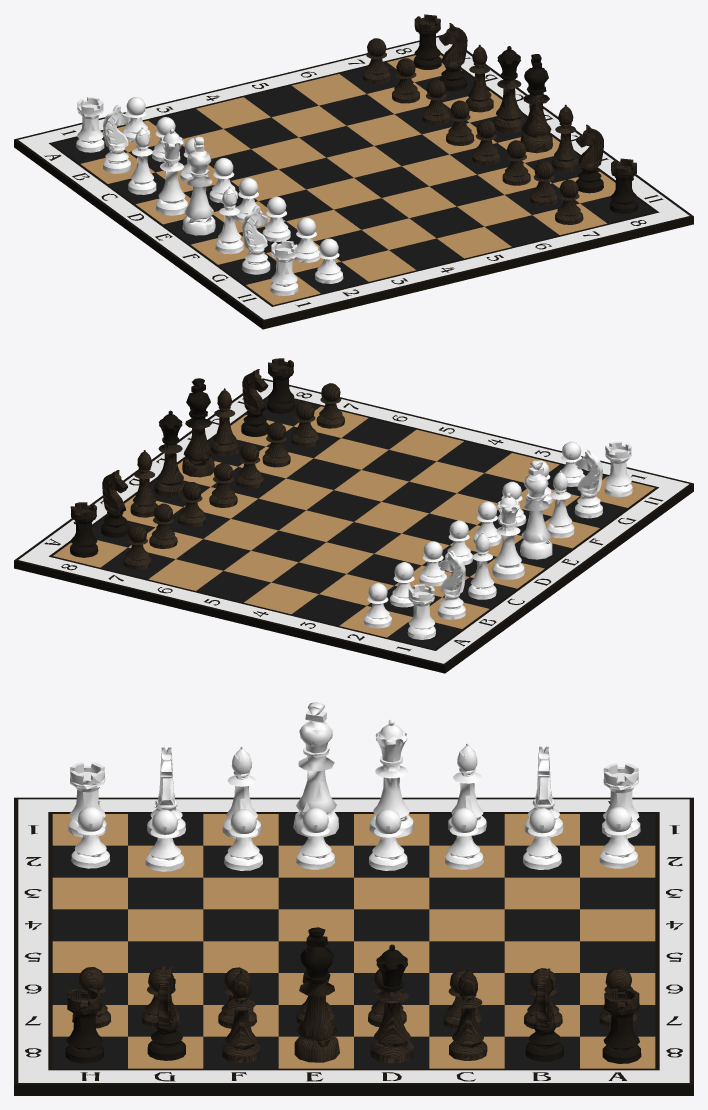
The model's file is botw-chess-002.glb.
3 renders of one model, top to bottom at view 1: azimuth 30°, elevation 25°; view 2: azimuth 150°, elevation 25°; view 3: azimuth 270°, elevation 25°, orthographic. The views are drawn at different scales.
Parts seen in each view (by area): view 1: board, whiteKing, blackKing, whiteQueen, blackQueen, blackKnight2, whiteKnight1, whiteKnight2, blackKnight1, whiteRook2, whiteRook1, blackRook1 (+20 smaller); view 2: board, whiteKing, blackKing, whiteQueen, blackQueen, whiteKnight1, whiteKnight2, blackKnight1, blackKnight2, whiteRook1, whiteRook2, blackRook2 (+19 smaller); view 3: board, blackKing, whiteKing, blackQueen, whiteQueen, blackRook2, blackRook1, blackBishop2, blackBishop1, blackKnight2, blackKnight1, whitePawn6 (+19 smaller).
Part boxes in pixels (x1,y1,x2,y2): board: [14, 35, 693, 329]; whiteKing: [182, 136, 215, 235]; blackKing: [520, 54, 552, 153]; whiteQueen: [156, 128, 187, 215]; blackQueen: [493, 46, 525, 132]; blackKnight2: [575, 124, 603, 193]; whiteKnight1: [103, 104, 131, 173]; whiteKnight2: [242, 205, 270, 274]; blackKnight1: [439, 23, 467, 91]; whiteRook2: [270, 240, 298, 295]; whiteRook1: [76, 97, 104, 152]; blackRook1: [413, 14, 441, 69]; board: [14, 378, 693, 673]; whiteKing: [520, 460, 552, 559]; blackKing: [182, 378, 214, 477]; whiteQueen: [492, 493, 524, 579]; blackQueen: [154, 410, 185, 497]; whiteKnight1: [437, 550, 465, 619]; whiteKnight2: [574, 449, 602, 518]; blackKnight1: [101, 470, 129, 537]; blackKnight2: [241, 369, 268, 436]; whiteRook1: [407, 584, 435, 639]; whiteRook2: [604, 441, 632, 497]; blackRook2: [267, 358, 295, 413]; board: [14, 797, 693, 1095]; blackKing: [294, 927, 339, 1062]; whiteKing: [293, 702, 338, 836]; blackQueen: [370, 944, 414, 1063]; whiteQueen: [369, 719, 413, 837]; blackRook2: [65, 988, 103, 1063]; blackRook1: [602, 988, 641, 1063]; blackBishop2: [222, 970, 260, 1062]; blackBishop1: [449, 968, 487, 1060]; blackKnight2: [147, 966, 185, 1060]; blackKnight1: [525, 968, 563, 1061]; whitePawn6: [224, 809, 262, 870].
Bounding box in the file's own units: 17.77 × 3.91 × 17.77.
4 materials, 2 textured.
